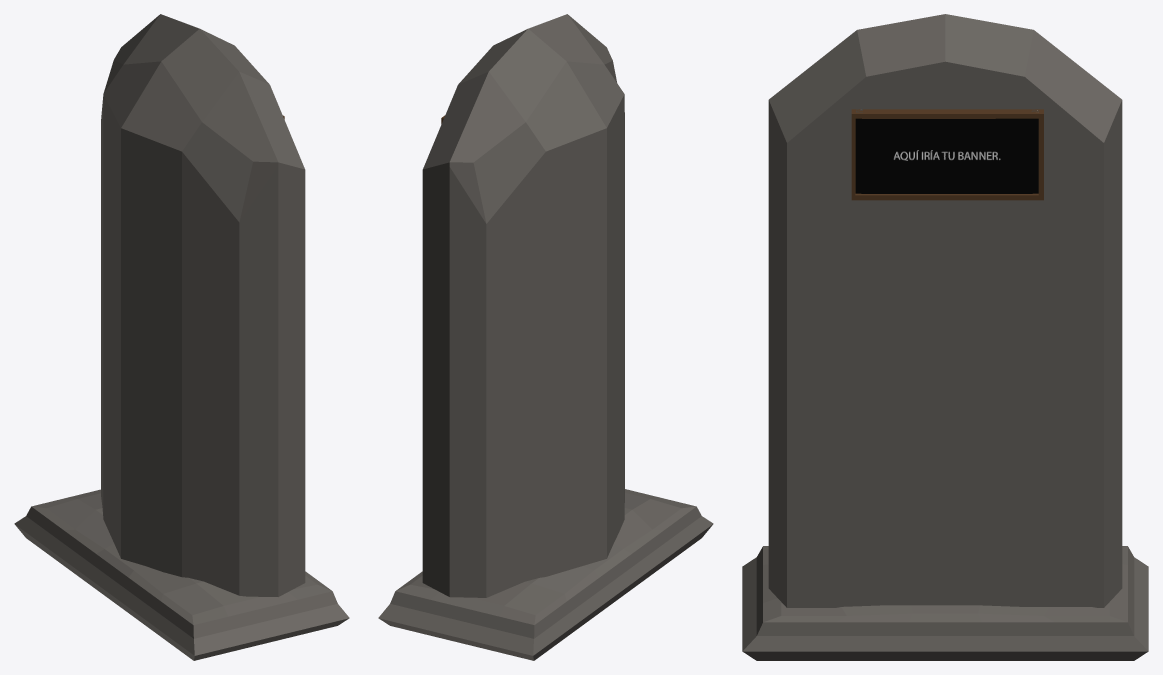
File: CasetaChicRoca.fbx
The picture shows the model from 3 angles, left to right: view 1: azimuth 30°, elevation 25°; view 2: azimuth 150°, elevation 25°; view 3: azimuth 270°, elevation 25°; orthographic projection. The views are drawn at different scales.
Visible parts, largest first — view 1: Casetas Chic Montaña.001; view 2: Casetas Chic Montaña.001; view 3: Casetas Chic Montaña.001, Letrero.006.
Boxes of the visible parts, left/top/right/bottom form: Casetas Chic Montaña.001: left=14, top=14, right=349, bottom=660; Casetas Chic Montaña.001: left=378, top=14, right=713, bottom=660; Casetas Chic Montaña.001: left=742, top=14, right=1148, bottom=660; Letrero.006: left=851, top=109, right=1043, bottom=200.
Bounding box in the file's own units: 114 × 385 × 230.
